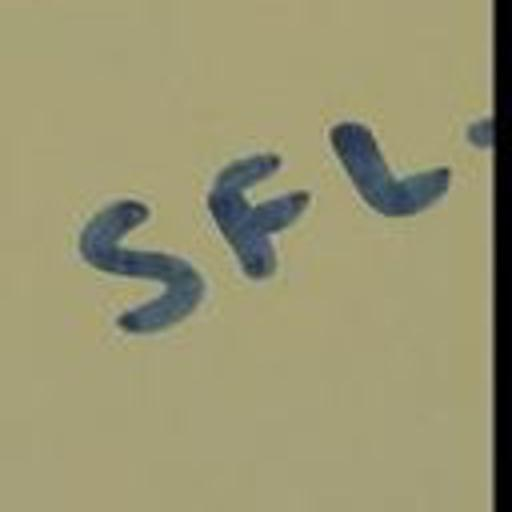stain: (61, 81, 494, 361)
